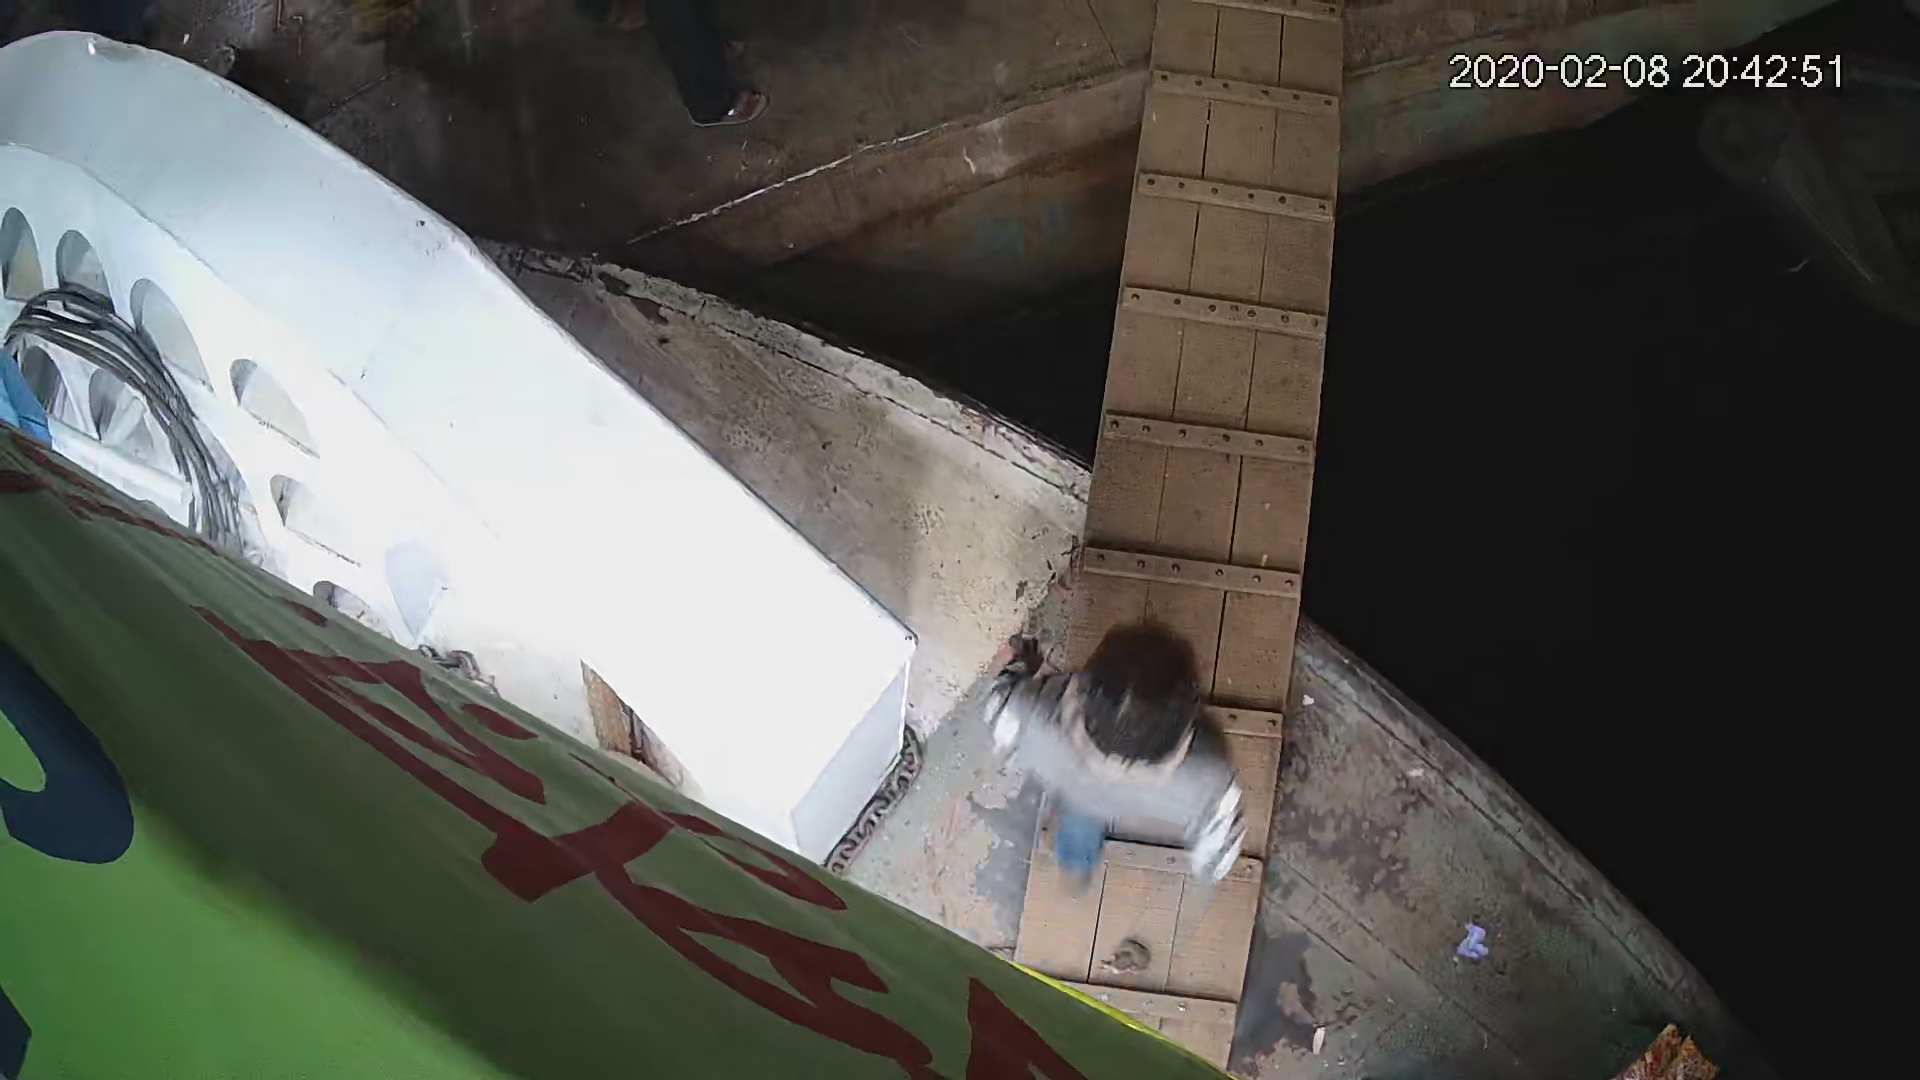person: (979, 618, 1254, 884)
